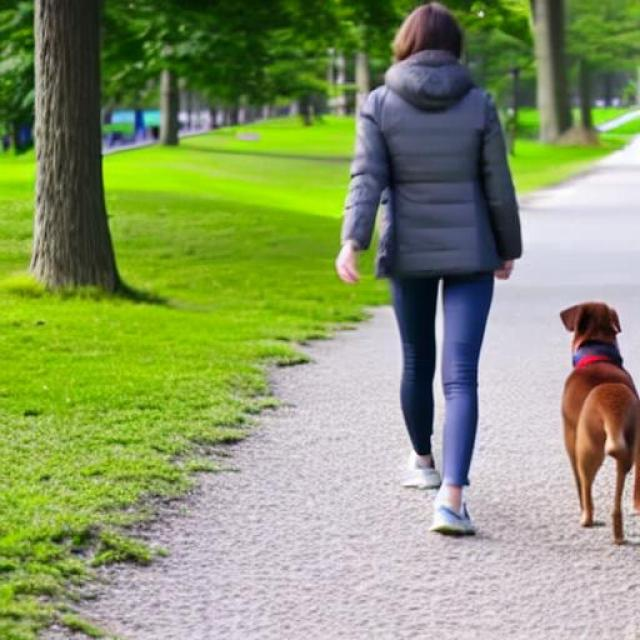Unleashed_Dog: (390, 278, 640, 547)
